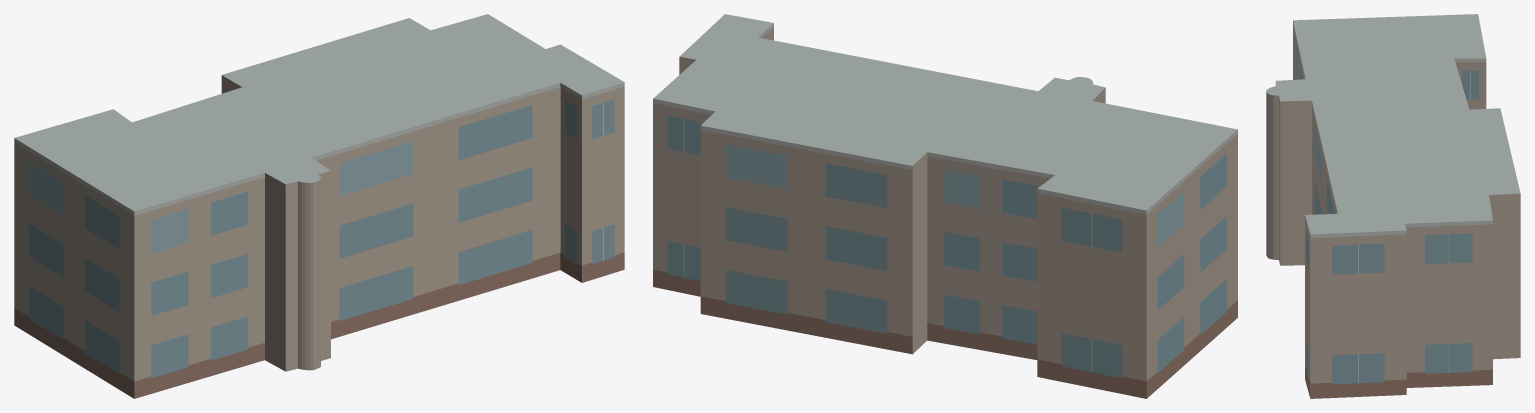
The model's file is survey-upis-32473511.glb.
3 renders of one model, left to right at view 1: azimuth 30°, elevation 25°; view 2: azimuth 150°, elevation 25°; view 3: azimuth 270°, elevation 25°, orthographic. The views are drawn at different scales.
Parts seen in each view (by area): view 1: survey-upis-32473511.tmp; view 2: survey-upis-32473511.tmp; view 3: survey-upis-32473511.tmp.
Part boxes in pixels (box(x1,y1,x2,y2)): survey-upis-32473511.tmp: box(14, 14, 624, 398); survey-upis-32473511.tmp: box(653, 14, 1237, 398); survey-upis-32473511.tmp: box(1266, 14, 1520, 398).
Size of the model in its own units: 30.36 by 10.55 by 14.8.
